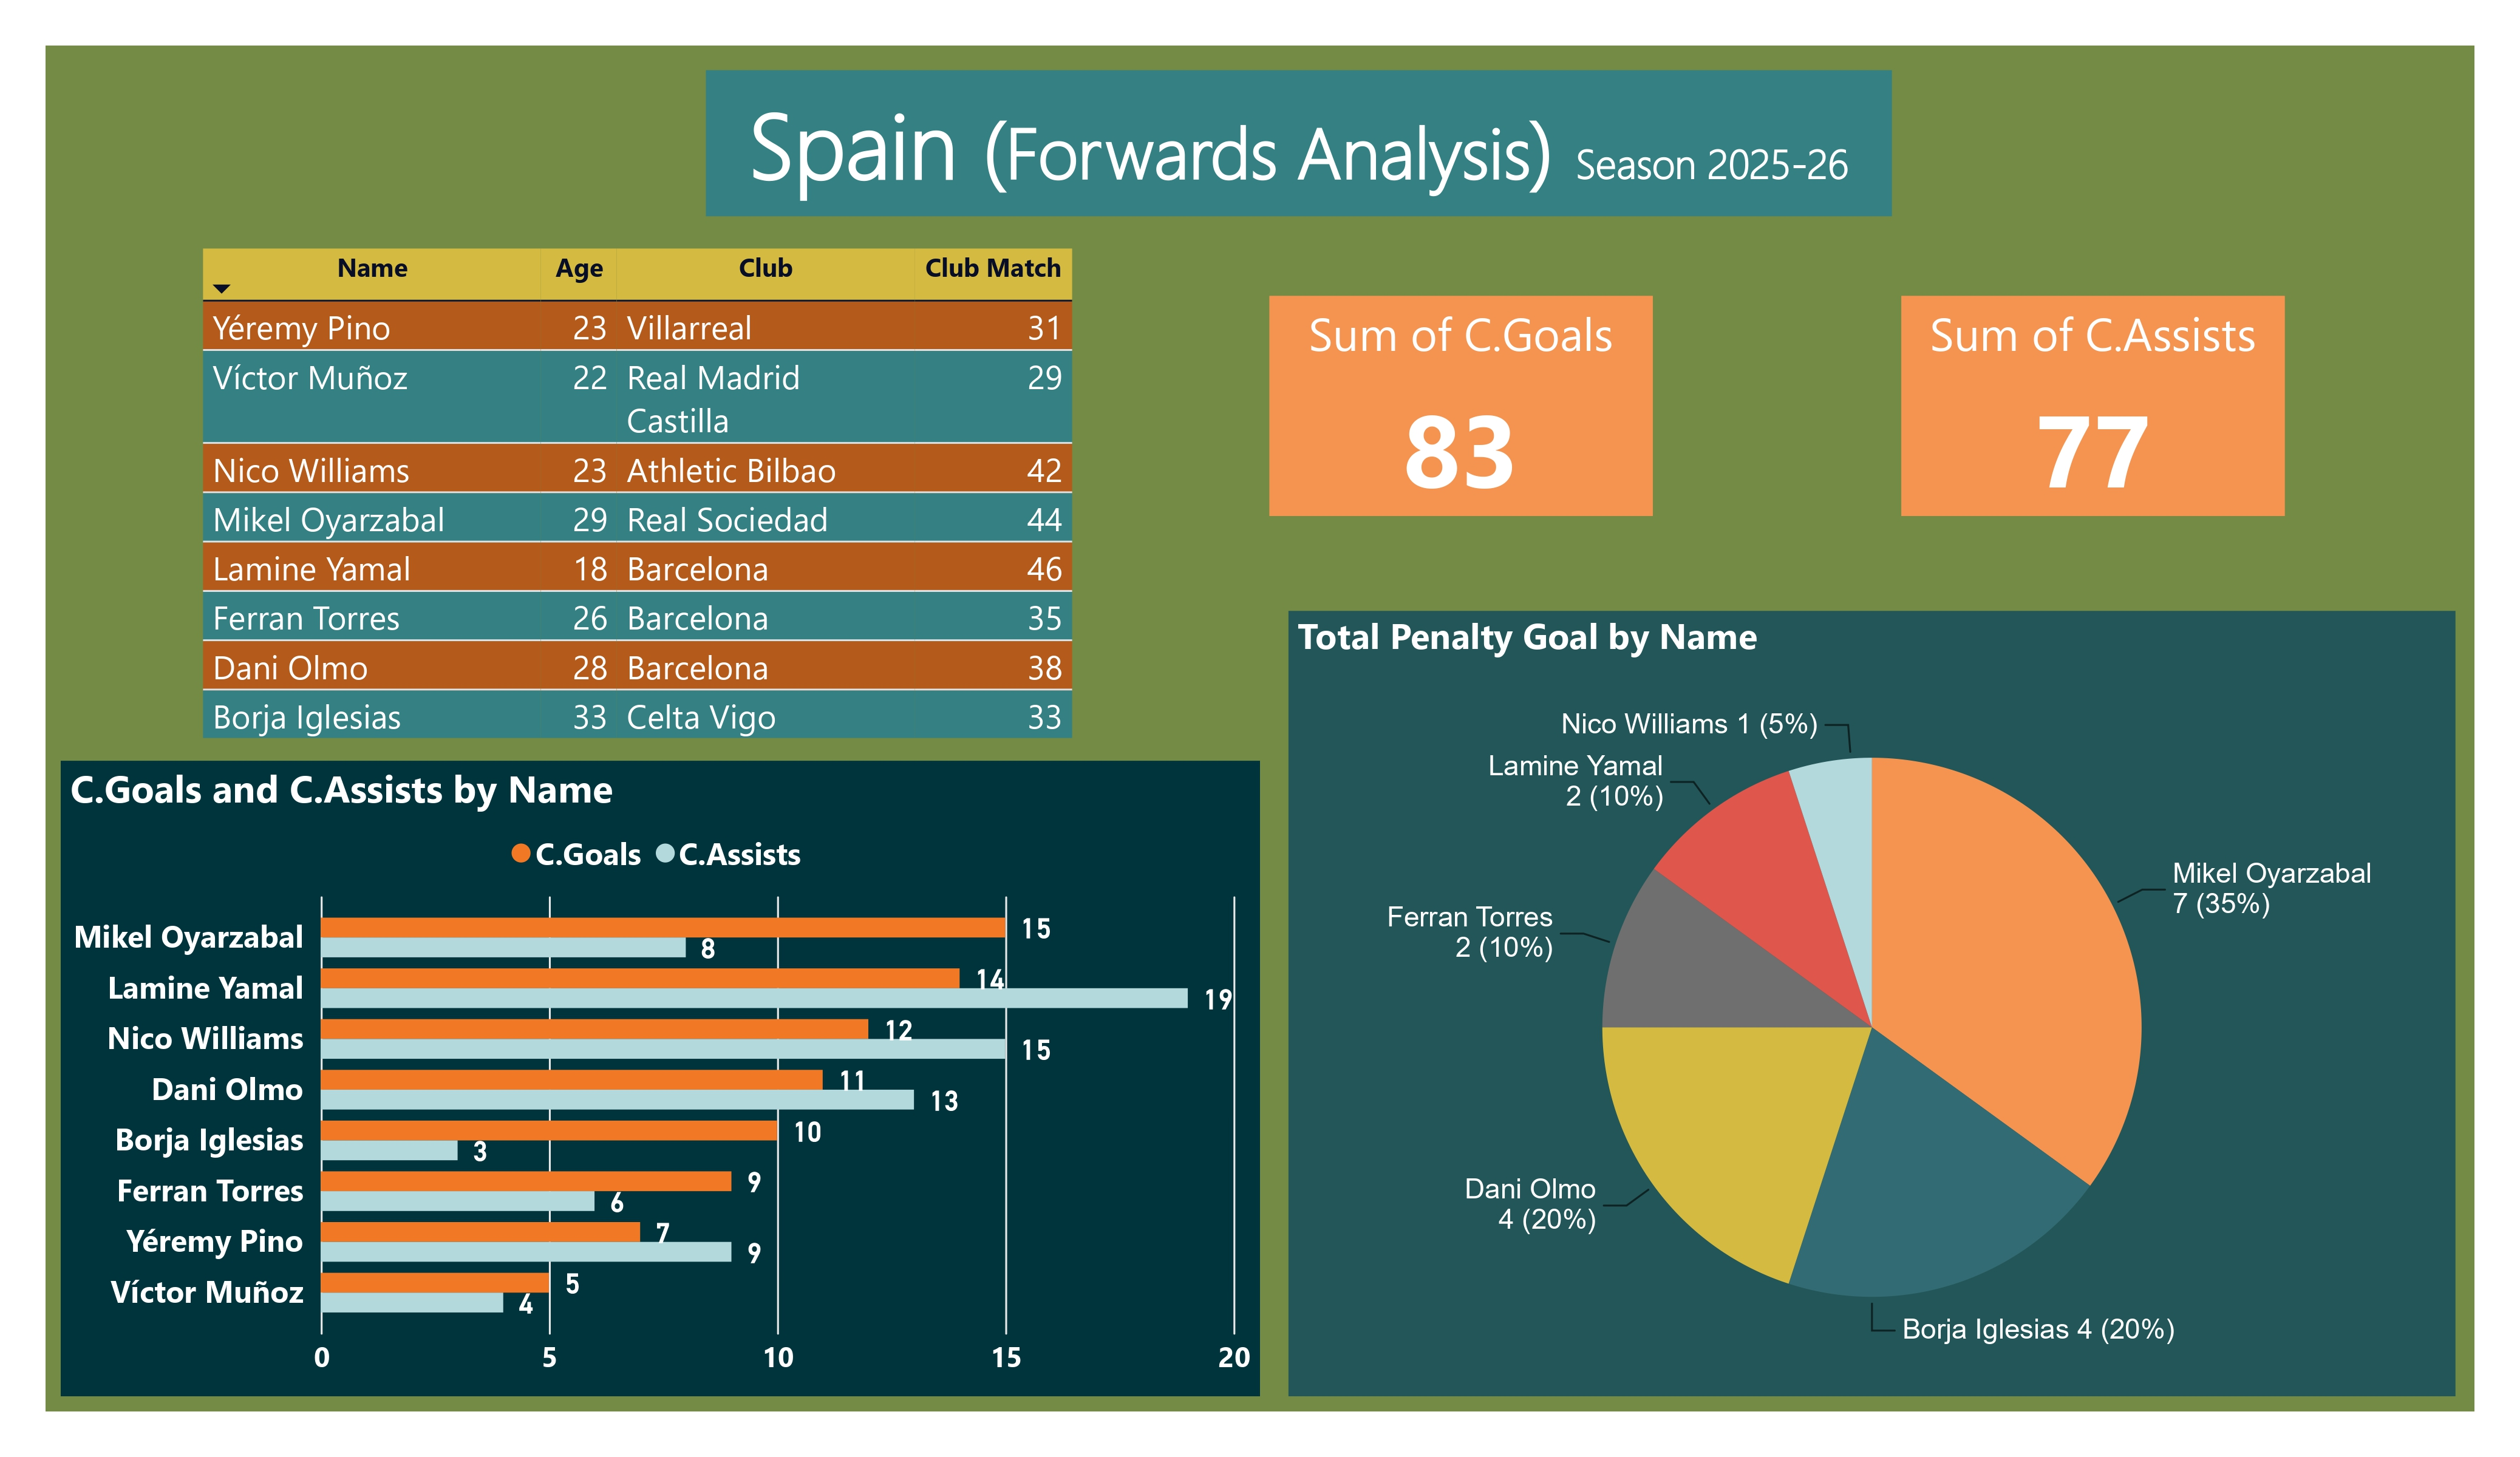

The page's visual inventory and layout, read from the dashboard file:
{"tool":"powerbi","page":{"name":"Fowards","canvas":[1280,720],"ordinal":0},"visuals":[{"type":"slicer","fields":{"Values":["Sheet1.Position"]},"box":[995.9,522.4,246.5,181.2],"z":0},{"type":"clusteredBarChart","fields":{"Category":["Sheet1.Name"],"Y":["Sum(Sheet1.C.Goals)","Sum(Sheet1.C.Assists)"]},"box":[8.3,376.7,631.7,335],"z":1000},{"type":"cardVisual","fields":{"Data":["Sum(Sheet1.C.Goals)"]},"box":[640,126.7,211.7,126.7],"z":2000},{"type":"cardVisual","fields":{"Data":["Sum(Sheet1.C.Assists)"]},"box":[973.3,126.7,211.7,126.7],"z":3000},{"type":"pieChart","fields":{"Category":["Sheet1.Name"],"Y":["Sum(Sheet1.Total Penalty Goal)"]},"box":[655,298.3,615,413.3],"z":4000},{"type":"tableEx","fields":{"Values":["Sheet1.Name","Sheet1.Age","Sheet1.Club","Sheet1.Club Match"]},"box":[76.7,101.7,470,270],"z":5000},{"type":"textbox","box":[348.3,13.3,625,76.7],"z":6000}]}

Visuals, with their boxes on the page's 1280x720 design canvas (x1, y1, x2, y2). These are canvas units, not pixel positions in the 2520x1457 screenshot, which may show the page scaled, cropped or inside an application window:
slicer - Sheet1.Position: {"left": 996, "top": 522, "right": 1242, "bottom": 704}
clusteredBarChart - Sheet1.Name x Sum(Sheet1.C.Goals): {"left": 8, "top": 377, "right": 640, "bottom": 712}
cardVisual - Sum(Sheet1.C.Goals): {"left": 640, "top": 127, "right": 852, "bottom": 253}
cardVisual - Sum(Sheet1.C.Assists): {"left": 973, "top": 127, "right": 1185, "bottom": 253}
pieChart - Sheet1.Name x Sum(Sheet1.Total Penalty Goal): {"left": 655, "top": 298, "right": 1270, "bottom": 712}
tableEx - Sheet1.Name x Sheet1.Age: {"left": 77, "top": 102, "right": 547, "bottom": 372}
textbox: {"left": 348, "top": 13, "right": 973, "bottom": 90}
